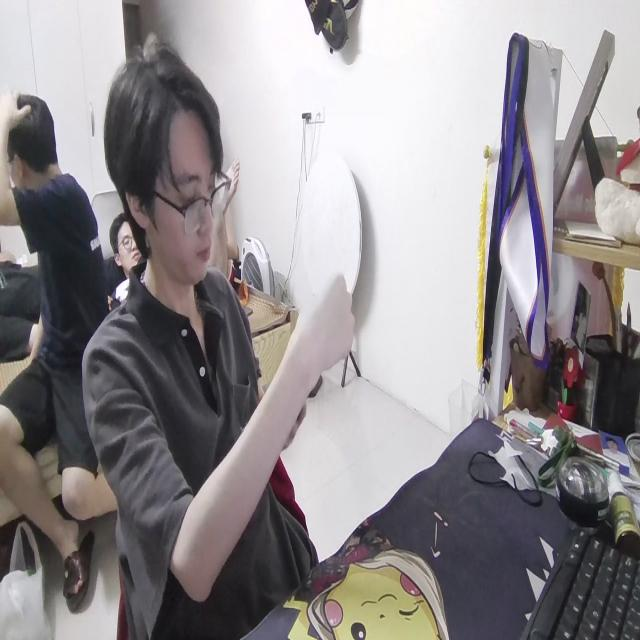extra_person: (0, 86, 121, 590), (108, 205, 142, 304)
student: (84, 32, 350, 640)
